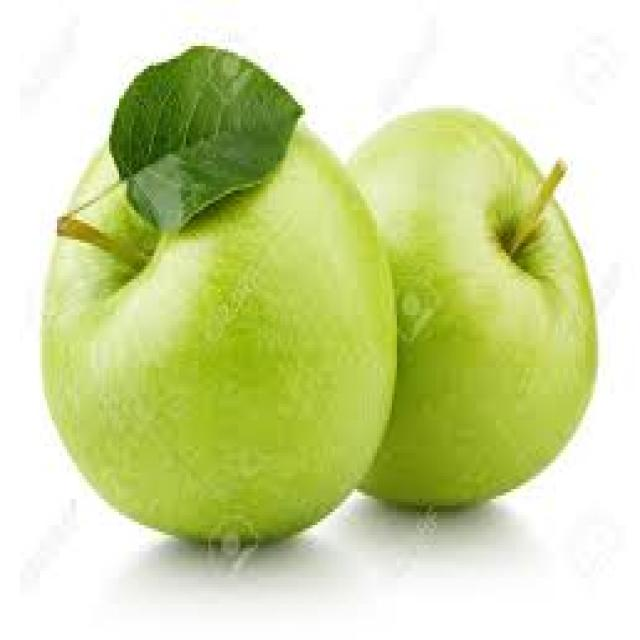50-_ripeness: (28, 66, 404, 560), (319, 99, 596, 512)
